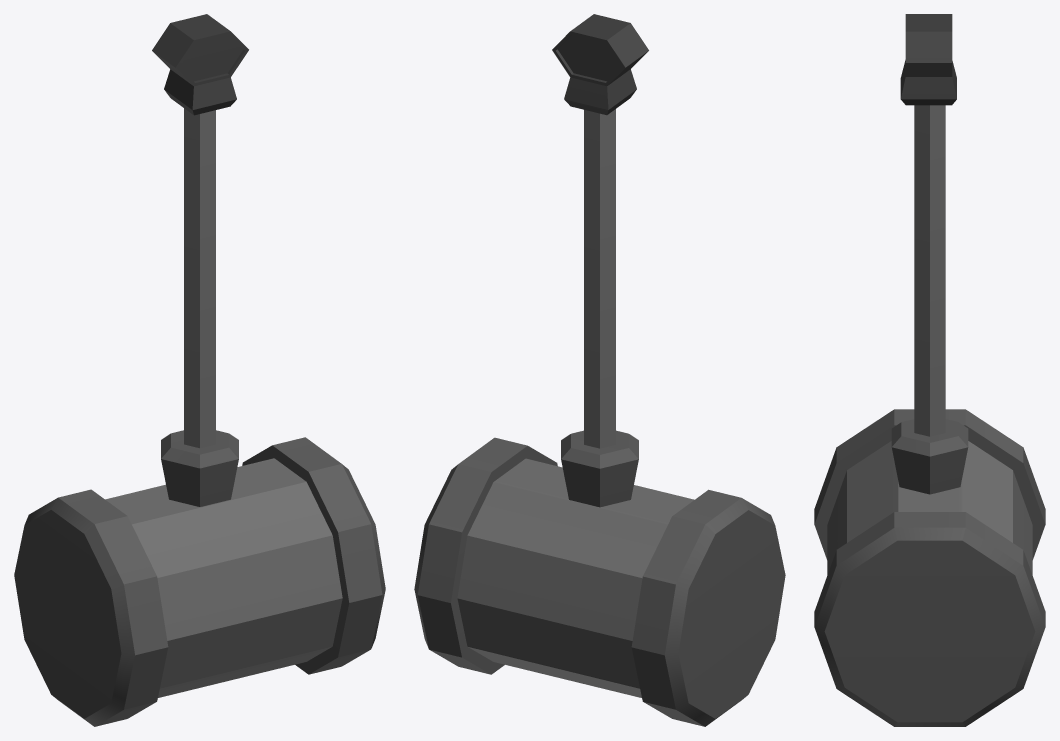
Rendered from Hammer.fbx.
The picture shows the model from 3 angles, left to right: view 1: azimuth 30°, elevation 25°; view 2: azimuth 150°, elevation 25°; view 3: azimuth 270°, elevation 25°; orthographic projection.
Visible parts, largest first — view 1: Hammer; view 2: Hammer; view 3: Hammer.
Boxes of the visible parts, left/top/right/bottom form: Hammer: left=14, top=14, right=385, bottom=726; Hammer: left=414, top=14, right=785, bottom=726; Hammer: left=814, top=14, right=1045, bottom=726.
Bounding box in the file's own units: 103 × 245 × 79.6.
1 material, 1 textured.
